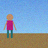person: (4, 14, 16, 38)
